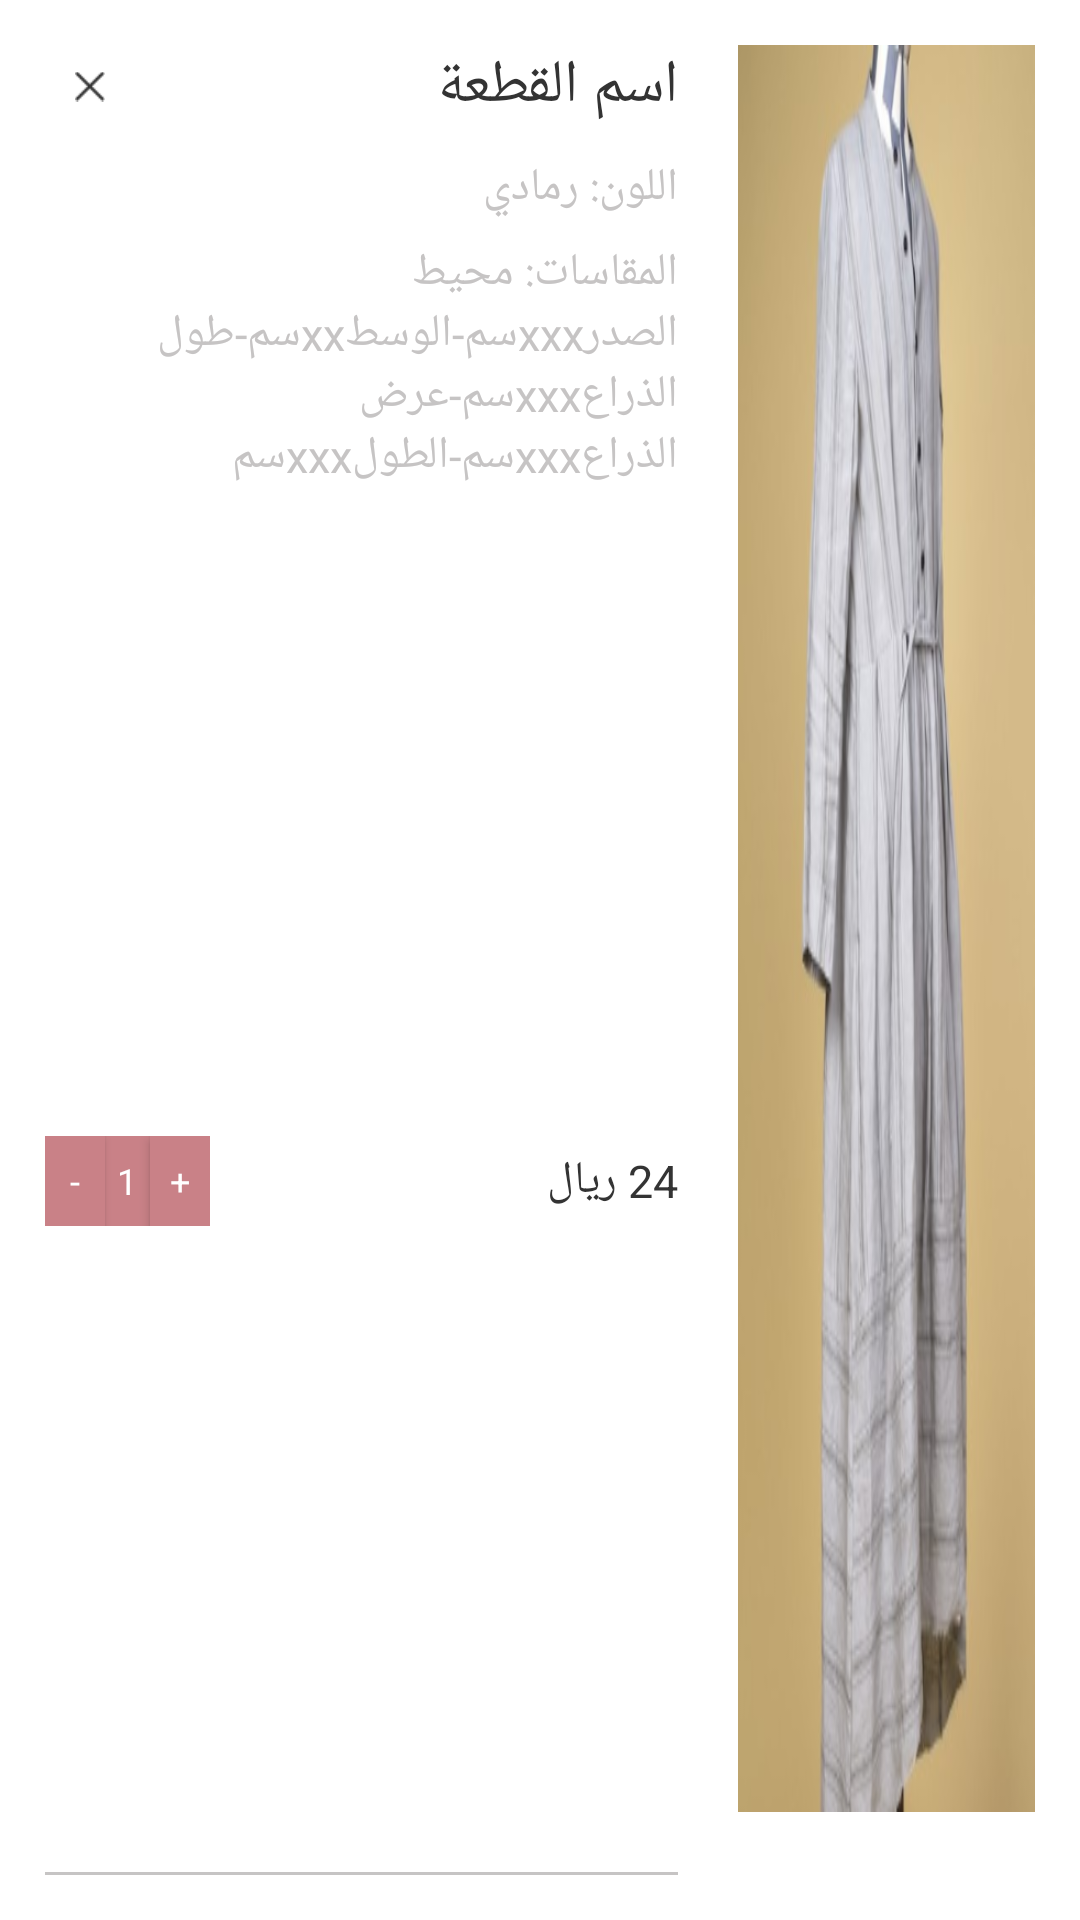

Where icons sit on this 1080w x 1920h app screen, as (x1, y1, x2, y2):
remove: (75, 72, 105, 102)
